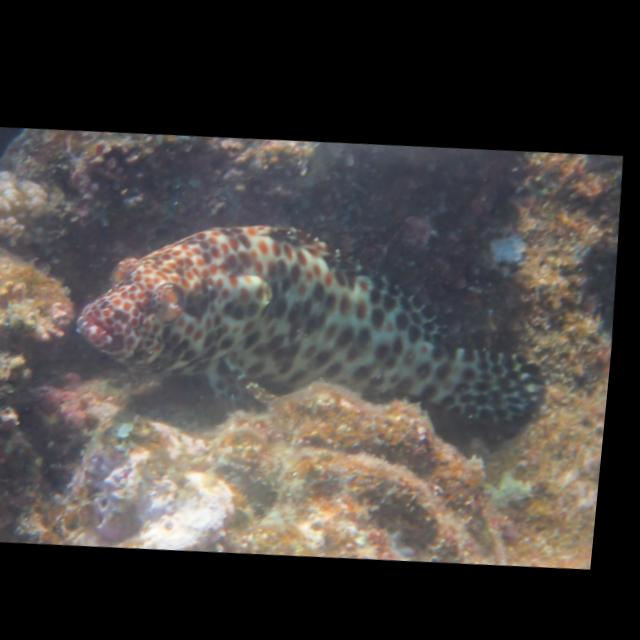Groupers: (59, 194, 563, 460)
